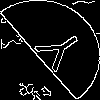Y: (25, 25, 88, 79)
